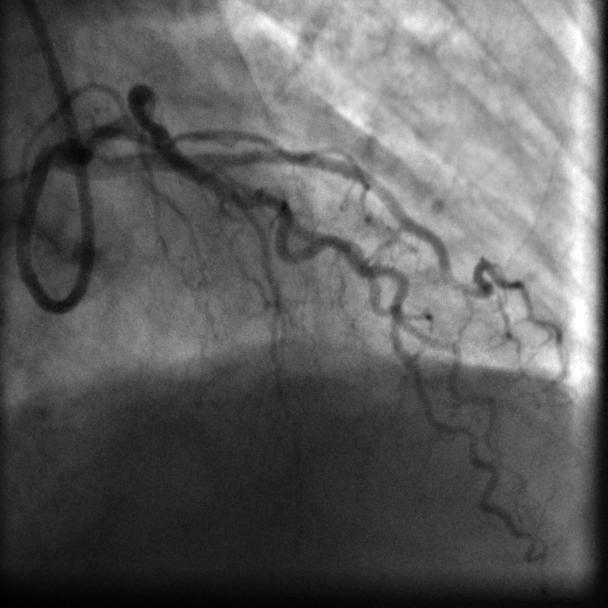Stenosis: (129, 91, 157, 135)
